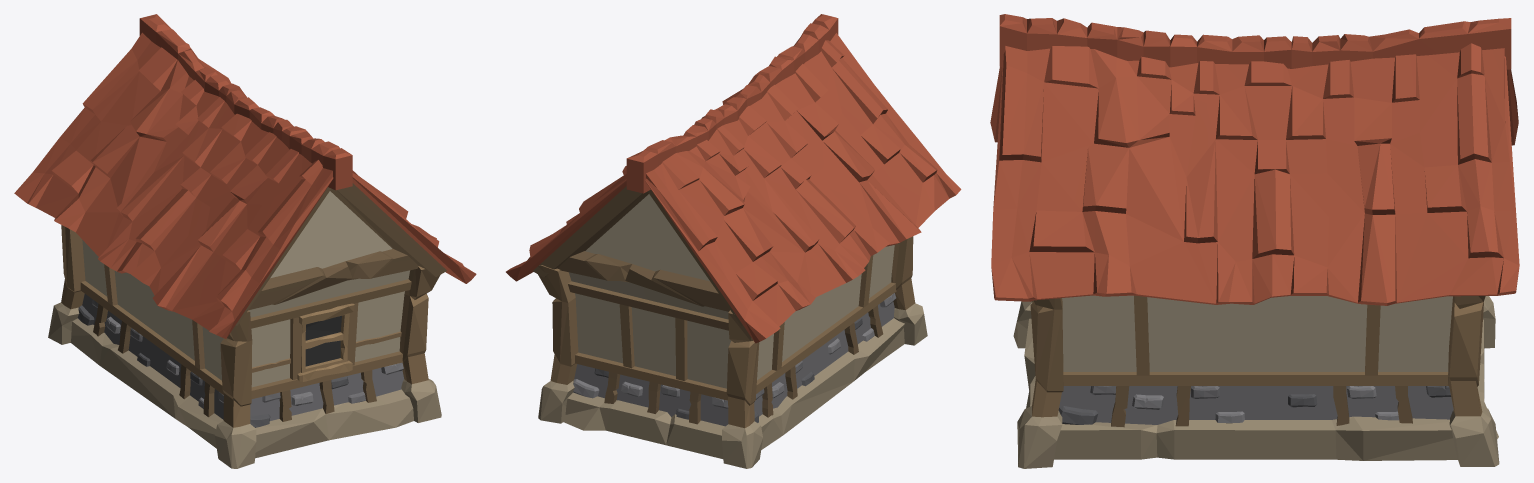
File: SM_Bld_House_Room_05.glb
3 renders of one model, left to right at view 1: azimuth 30°, elevation 25°; view 2: azimuth 150°, elevation 25°; view 3: azimuth 270°, elevation 25°, orthographic. The views are drawn at different scales.
Parts seen in each view (by area): view 1: SM_Bld_House_Room_05; view 2: SM_Bld_House_Room_05; view 3: SM_Bld_House_Room_05.
Boxes of the visible parts, x1,y1,x2,y2 form: SM_Bld_House_Room_05: (14,14,476,468); SM_Bld_House_Room_05: (506,14,961,468); SM_Bld_House_Room_05: (990,14,1519,468).
Size of the model in its own units: 5.04 by 5.09 by 6.38.
Materials: 1 (1 with a texture image).
